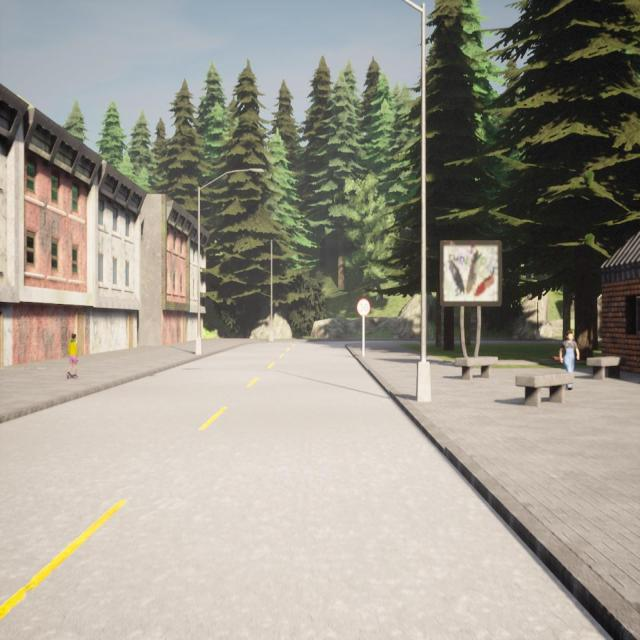Pedestrian: (558, 328, 580, 392), (65, 332, 79, 379)
Traffic_Signs: (357, 298, 371, 317)
